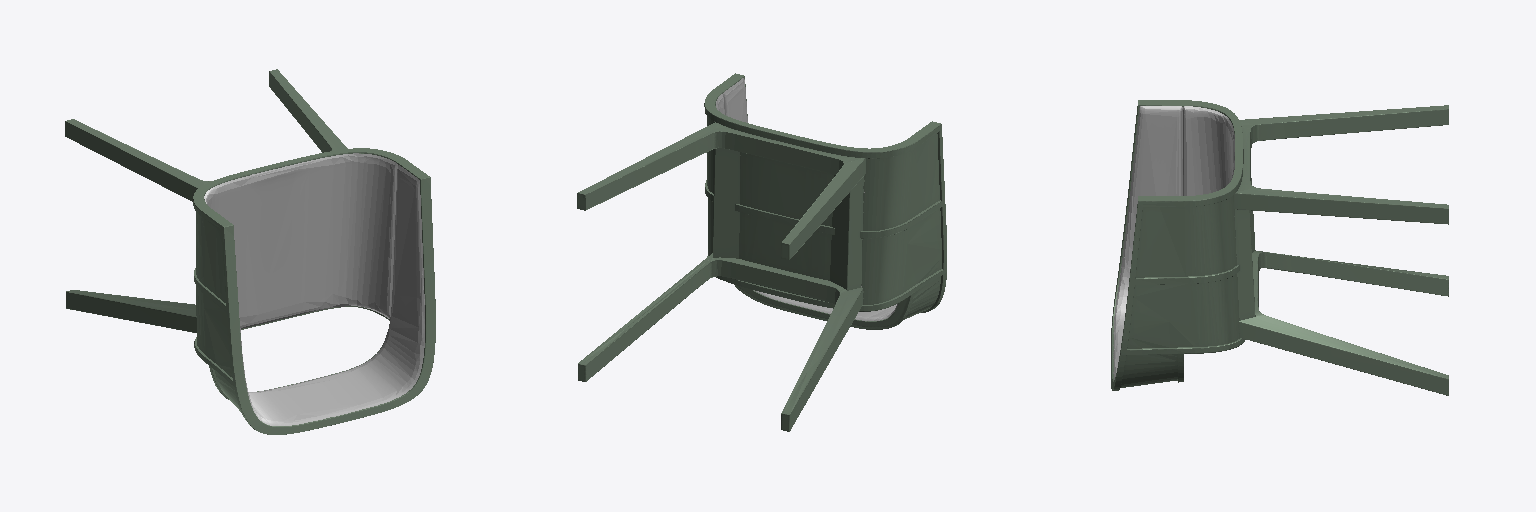
3 renders of one model, left to right at view 1: azimuth 30°, elevation 25°; view 2: azimuth 150°, elevation 25°; view 3: azimuth 270°, elevation 25°, orthographic.
Bounding box in the file's own units: 0.507 × 0.4824 × 0.6994.
Materials: 1 (1 with a texture image).